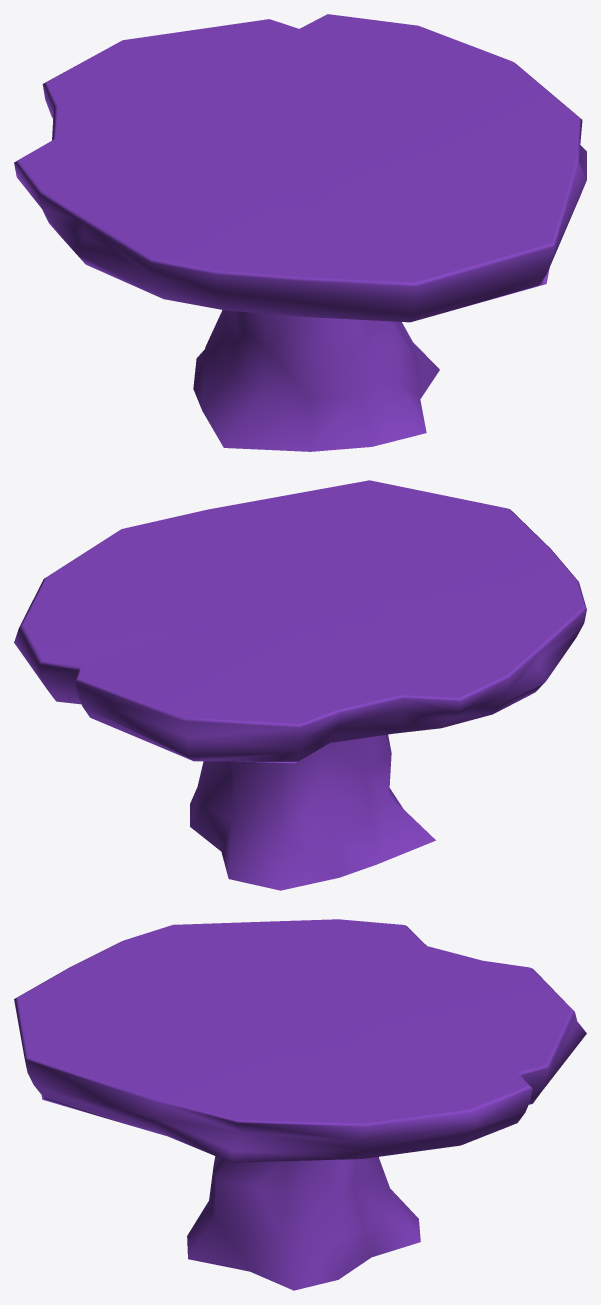
The model's file is Table.obj.
3 views of the same model, one above another, from view 1: azimuth 30°, elevation 25°; view 2: azimuth 150°, elevation 25°; view 3: azimuth 270°, elevation 25° (orthographic). The views are drawn at different scales.
Visible parts, largest first — view 1: Table; view 2: Table; view 3: Table.
Part boxes in pixels (x1,y1,x2,y2): Table: [14, 14, 586, 451]; Table: [14, 480, 586, 890]; Table: [14, 919, 586, 1290].
Bounding box in the file's own units: 6.66 × 3.2 × 7.72.
